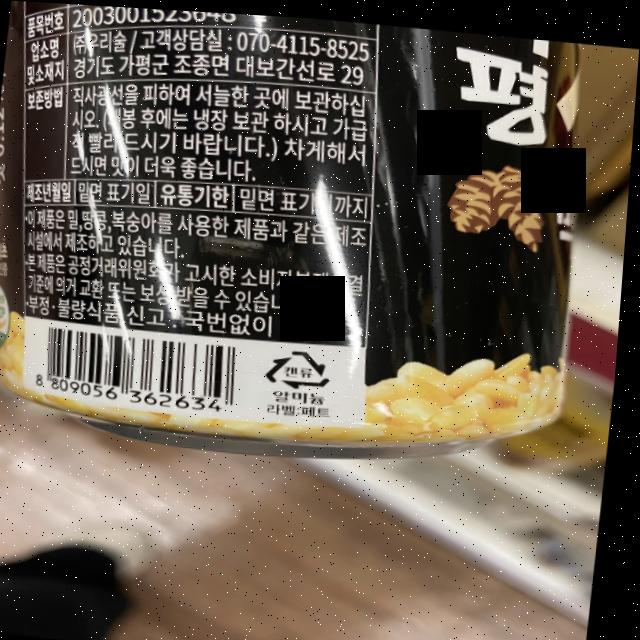Glass: (265, 340, 341, 388)
